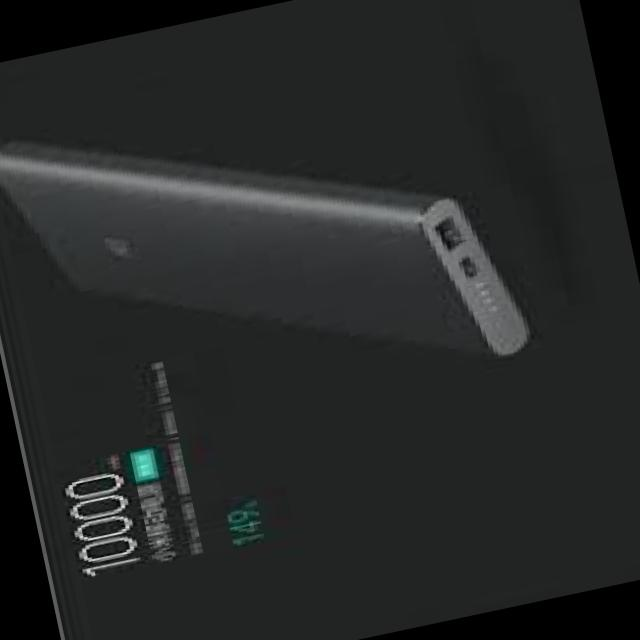power_bank: (0, 44, 539, 460)
